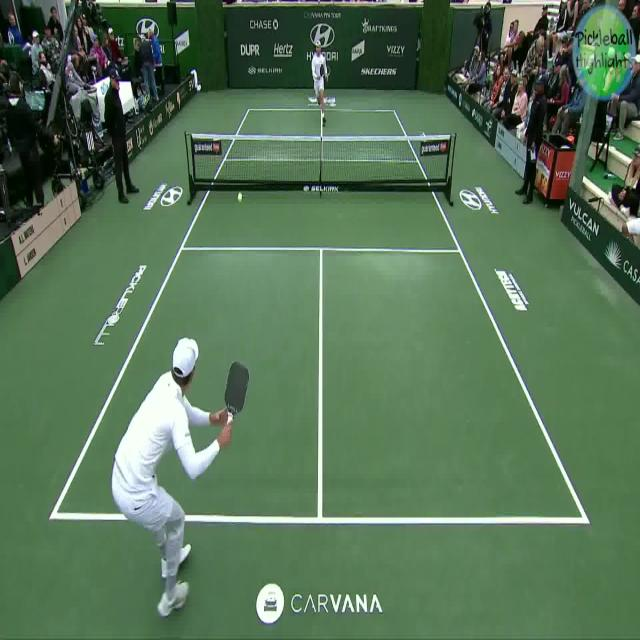ball: (236, 188, 245, 206)
